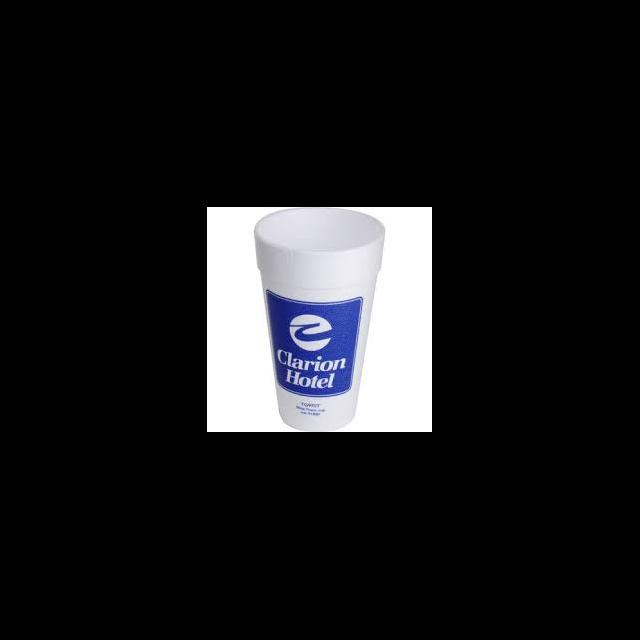paper: (254, 208, 386, 430)
